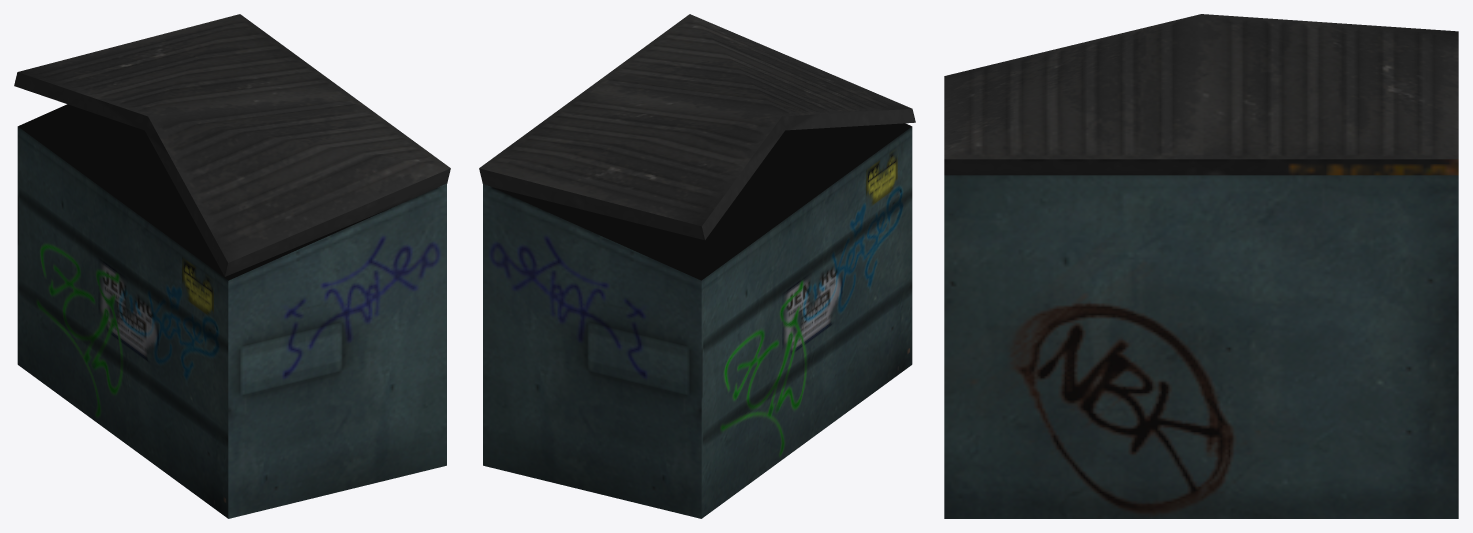
Rendered from props2_4.fbx.
The picture shows the model from 3 angles, left to right: view 1: azimuth 30°, elevation 25°; view 2: azimuth 150°, elevation 25°; view 3: azimuth 270°, elevation 25°; orthographic projection. The views are drawn at different scales.
Visible parts, largest first — view 1: Dino_props_2_low_004; view 2: Dino_props_2_low_004; view 3: Dino_props_2_low_004.
Part boxes in pixels (x1,y1,x2,y2): Dino_props_2_low_004: (14, 14, 450, 518); Dino_props_2_low_004: (479, 14, 915, 518); Dino_props_2_low_004: (944, 14, 1458, 518).
Bounding box in the file's own units: 1.1 × 1.48 × 1.77.
